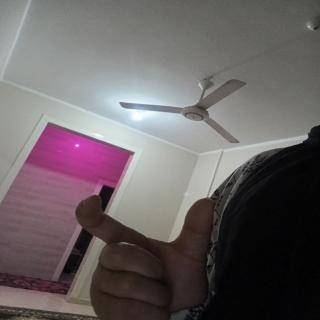NOON: (67, 177, 249, 320)
